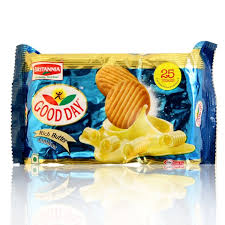gooday-medium: (18, 48, 211, 164)
